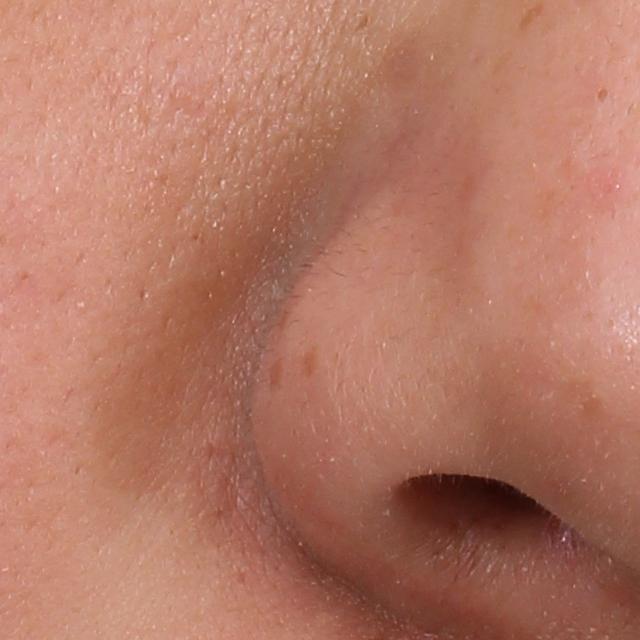comedo: (593, 80, 612, 108)
melasma: (516, 2, 546, 34)
